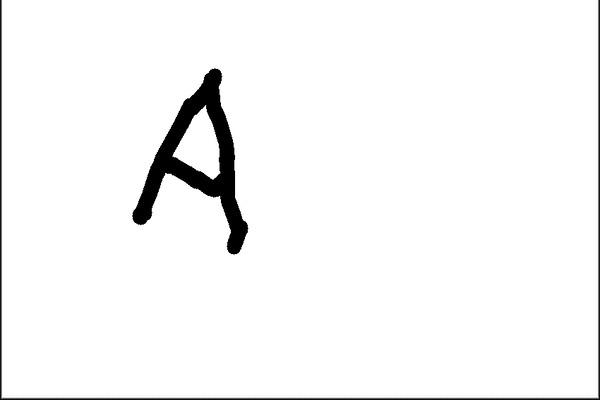A: (118, 62, 261, 261)
